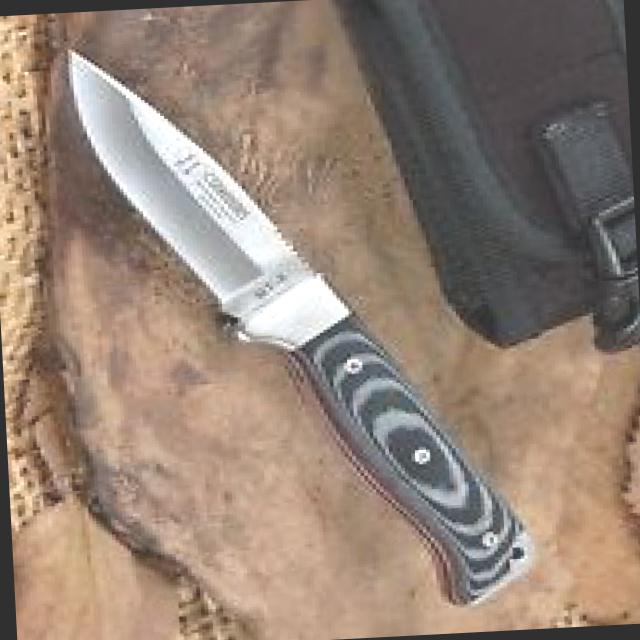knife: (59, 24, 361, 377)
